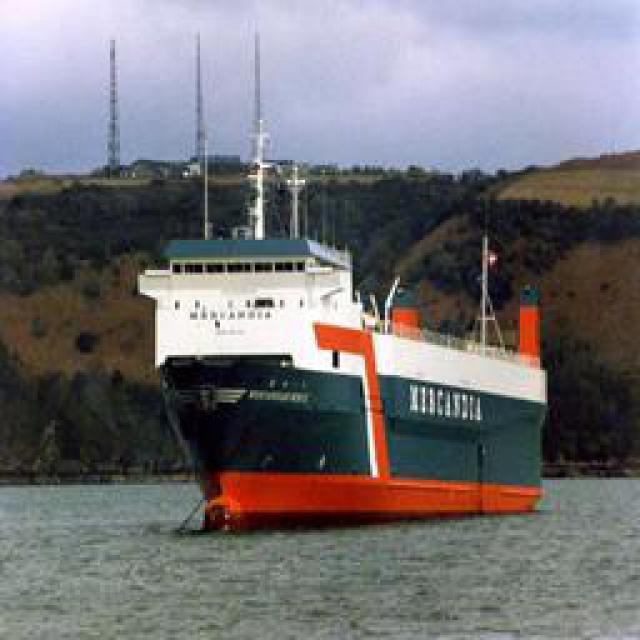Ship: (162, 251, 545, 529)
